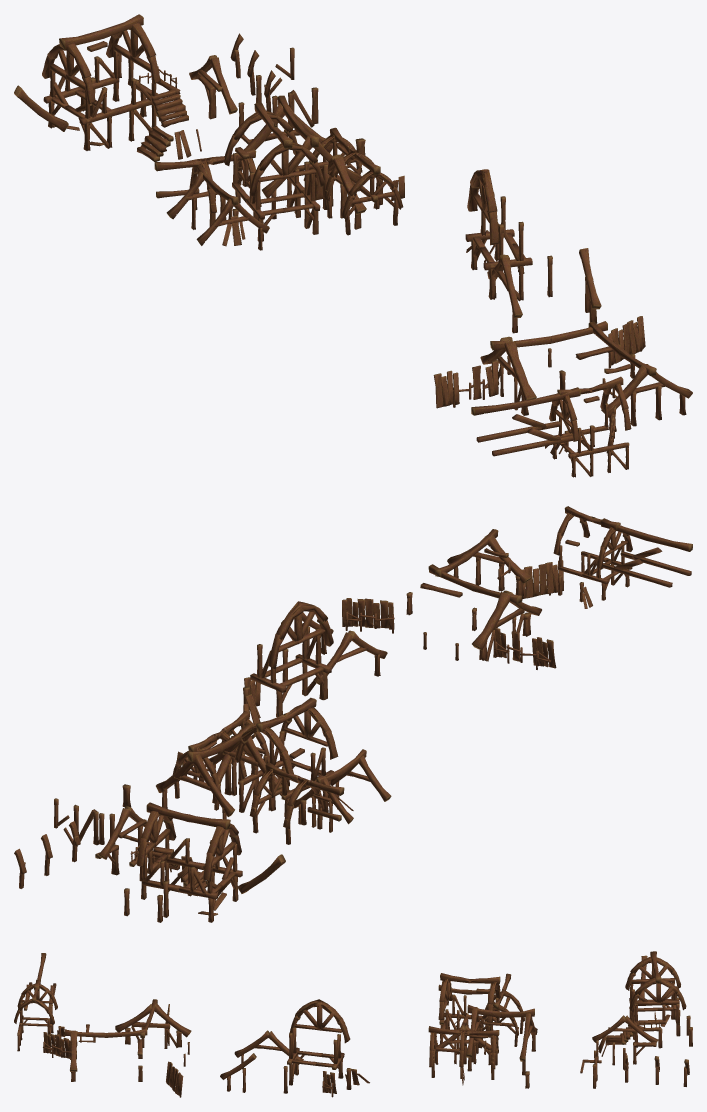
Rendered from WoodBlock3.FBX.
The picture shows the model from 3 angles, top to bottom: view 1: azimuth 30°, elevation 25°; view 2: azimuth 150°, elevation 25°; view 3: azimuth 270°, elevation 25°; orthographic projection. The views are drawn at different scales.
Visible parts, largest first — view 1: Object4553; view 2: Object4553; view 3: Object4553.
Part boxes in pixels (x1,y1,x2,y2): Object4553: (14,14,692,477); Object4553: (14,506,692,922); Object4553: (14,951,692,1097).
Bounding box in the file's own units: 2637 × 1080 × 8172.
